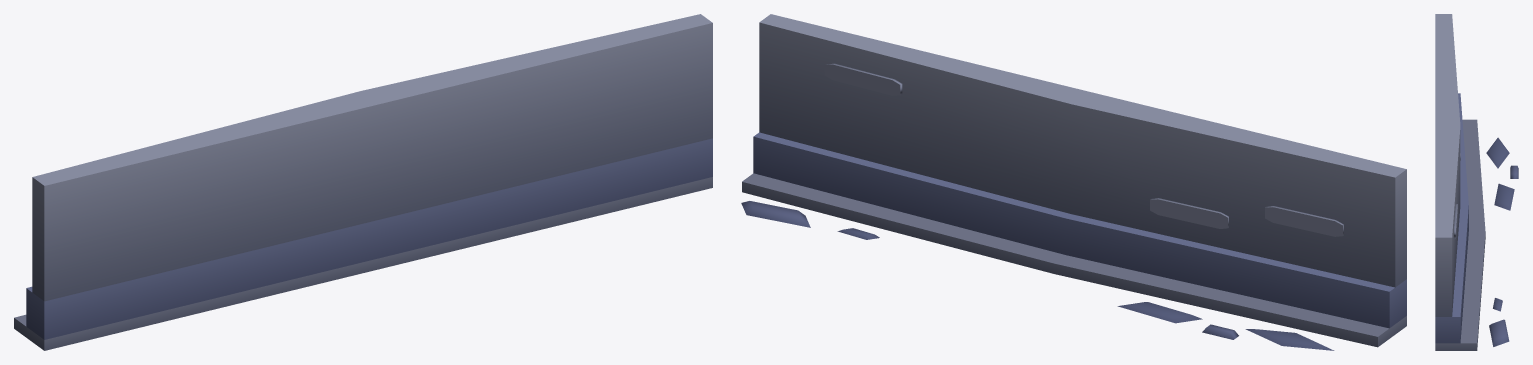
Rendered from template-wall.004.001_lev1.glb.
3 views of the same model, side by side, from view 1: azimuth 30°, elevation 25°; view 2: azimuth 150°, elevation 25°; view 3: azimuth 270°, elevation 25° (orthographic). The views are drawn at different scales.
Parts seen in each view (by area): view 1: template-wall.004.001_lev1; view 2: template-wall.004.001_lev1; view 3: template-wall.004.001_lev1.
Part boxes in pixels (<box>): template-wall.004.001_lev1: <box>14,14,712,350</box>; template-wall.004.001_lev1: <box>741,14,1406,350</box>; template-wall.004.001_lev1: <box>1435,14,1518,350</box>.
Size of the model in its own units: 22.45 by 5.3 by 3.52.
Materials: 1 (1 with a texture image).
